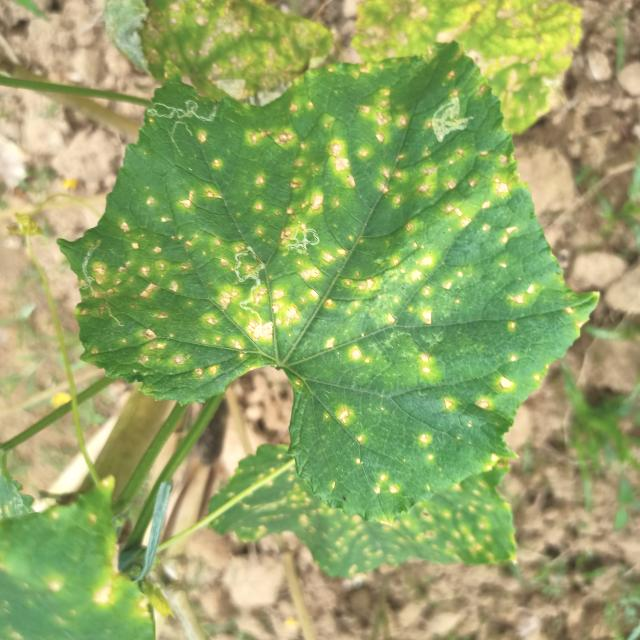disease_cucumber: (69, 68, 558, 377), (478, 374, 518, 411), (335, 398, 365, 446), (371, 467, 408, 499), (416, 428, 442, 460), (439, 390, 458, 414)
